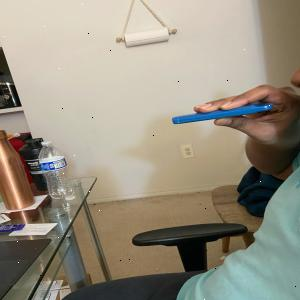Diamond-E-Ciggirate: (169, 100, 274, 126)
